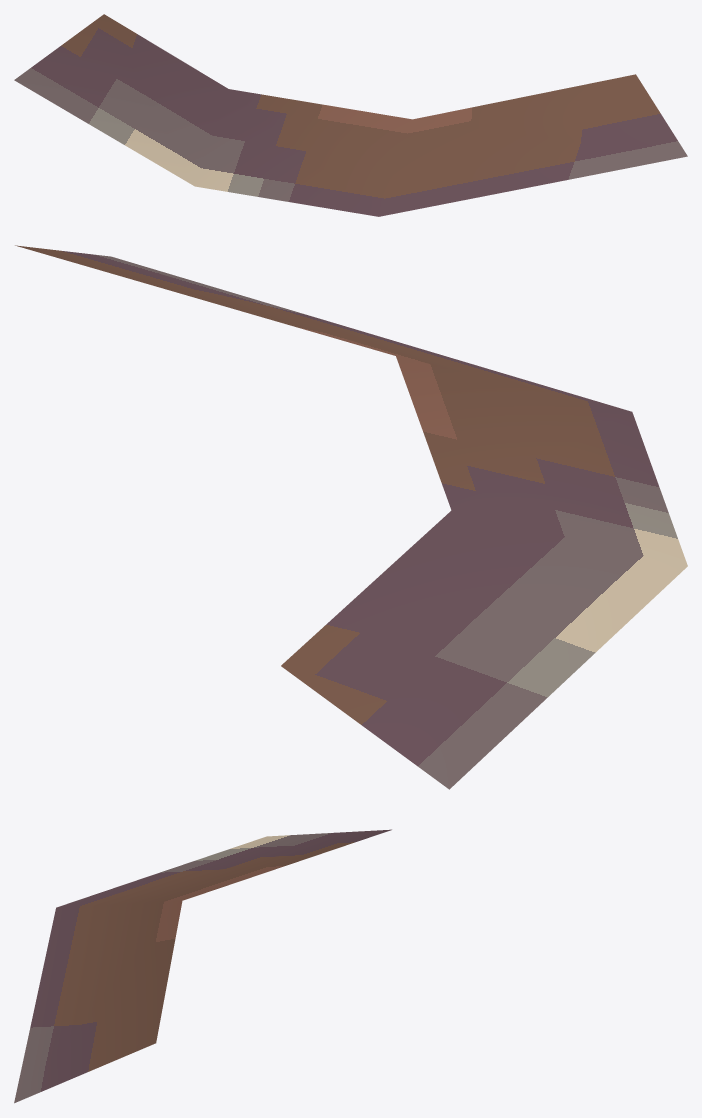
Rendered from hgss-piece-004-element-18-12.glb.
3 views of the same model, one above another, from view 1: azimuth 30°, elevation 25°; view 2: azimuth 150°, elevation 25°; view 3: azimuth 270°, elevation 25° (orthographic). The views are drawn at different scales.
Bounding box in the file's own units: 1 × 0.0986 × 1.
Materials: 1 (1 with a texture image).
